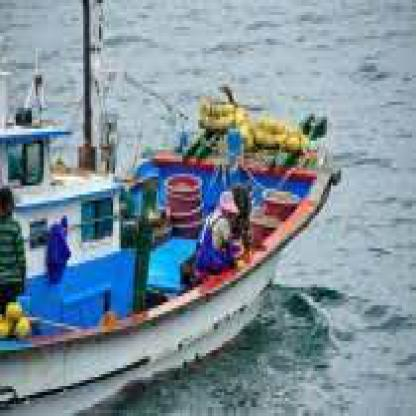fish-b: (0, 3, 351, 410)
